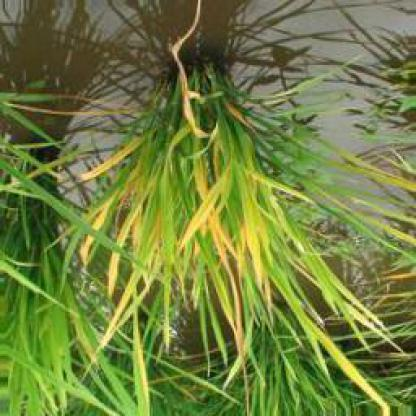Tungro: (285, 219, 401, 356), (97, 224, 162, 364), (305, 331, 399, 416), (167, 3, 220, 138), (209, 281, 260, 413), (177, 162, 230, 253), (79, 130, 156, 190), (243, 208, 276, 333), (242, 169, 328, 213), (110, 187, 143, 294), (81, 178, 119, 268)
